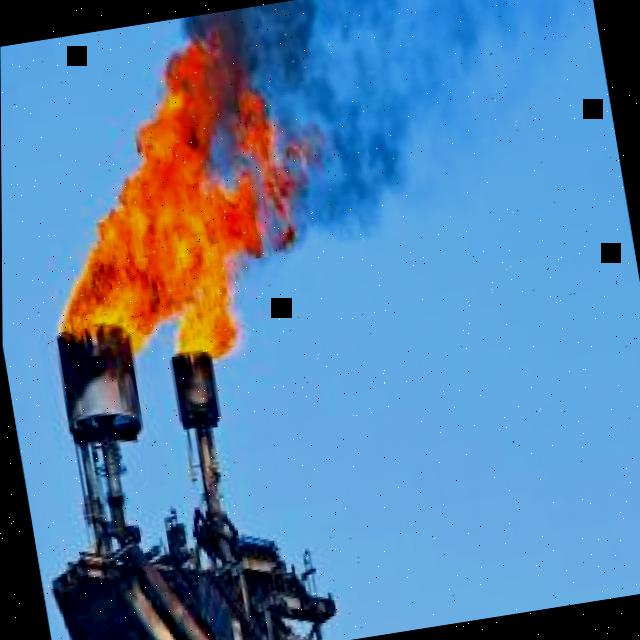fire: (52, 49, 289, 359)
smoke: (179, 0, 576, 288)
